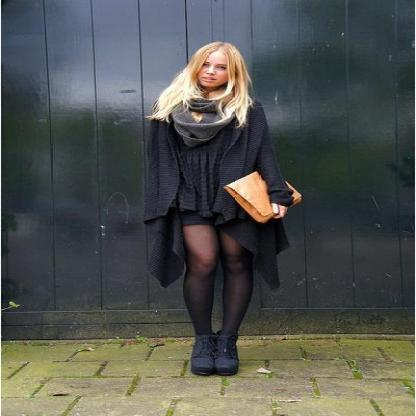bag: (224, 175, 300, 222)
jacket: (142, 102, 300, 288), (168, 114, 246, 220)
shoe: (202, 336, 236, 357)
